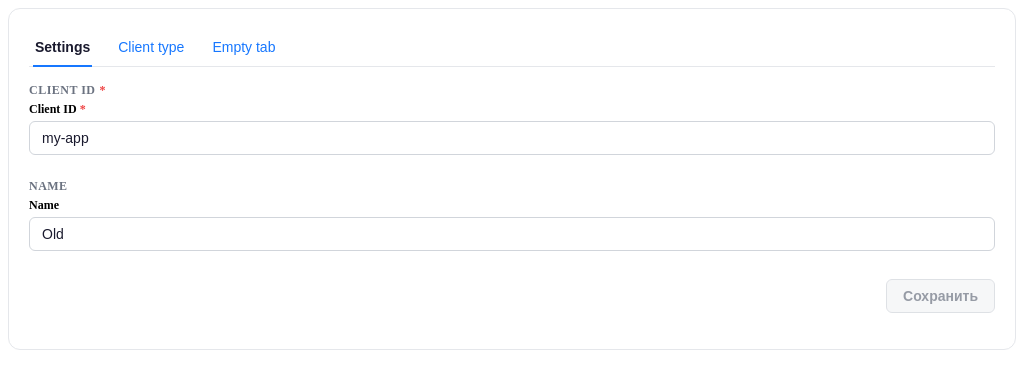
Test case: TabbedForm — save (dirty tracking + exec) › Save кнопка disabled при clean state, enabled после edit
Expected: the button "Сохранить" is disabled, left=886, top=279, right=995, bottom=313
Replace the text in the field labelled "Name" with "New" at [512, 234], box left=29, top=217, right=995, bottom=251
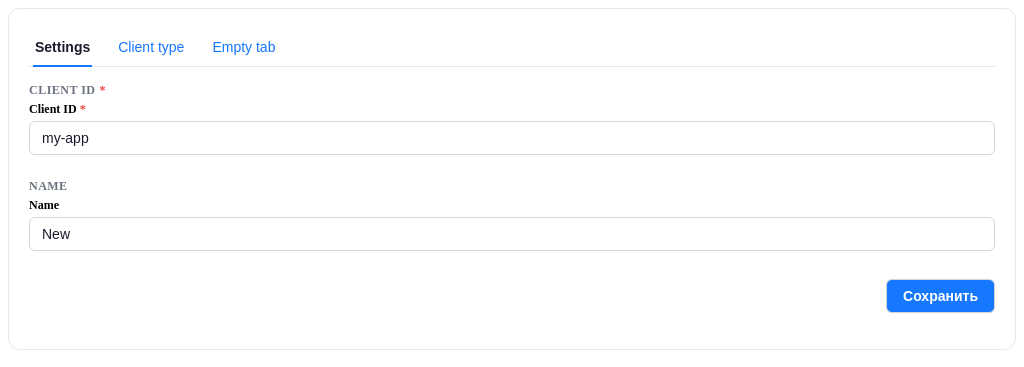
Expected: the button "Сохранить" is enabled, left=886, top=279, right=995, bottom=313
